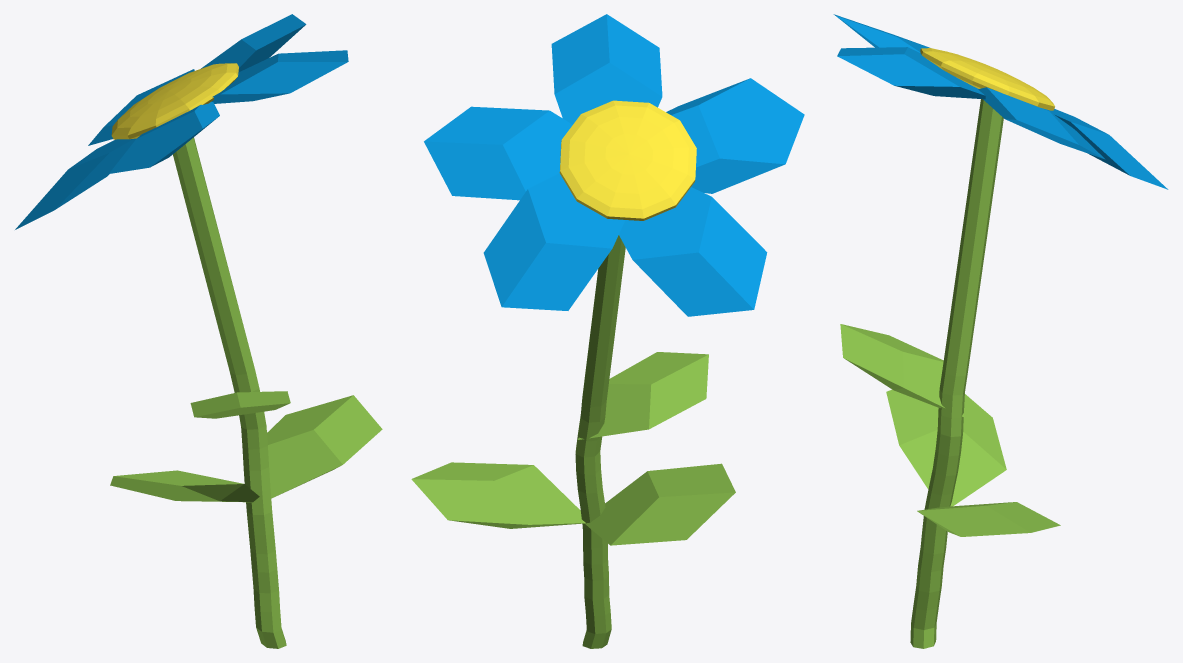
3 views of the same model, side by side, from view 1: azimuth 30°, elevation 25°; view 2: azimuth 150°, elevation 25°; view 3: azimuth 270°, elevation 25° (orthographic). The views are drawn at different scales.
Parts seen in each view (by area): view 1: group_79261407, group_608209523, group_987339474, group_505682177, group_890536338; view 2: group_79261407, group_608209523, group_987339474, group_505682177, group_890536338; view 3: group_608209523, group_79261407, group_505682177, group_890536338, group_987339474.
Boxes of the visible parts, left/top/right/bottom form: group_79261407: left=15, top=14, right=348, bottom=229; group_608209523: left=173, top=137, right=286, bottom=648; group_987339474: left=267, top=395, right=382, bottom=498; group_505682177: left=110, top=470, right=259, bottom=502; group_890536338: left=190, top=391, right=290, bottom=418; group_79261407: left=424, top=14, right=804, bottom=316; group_608209523: left=575, top=235, right=625, bottom=648; group_987339474: left=411, top=462, right=585, bottom=528; group_505682177: left=584, top=463, right=735, bottom=545; group_890536338: left=578, top=352, right=708, bottom=439; group_608209523: left=910, top=99, right=1003, bottom=648; group_79261407: left=833, top=14, right=1168, bottom=189; group_505682177: left=886, top=389, right=1006, bottom=506; group_890536338: left=840, top=324, right=964, bottom=417; group_987339474: left=917, top=502, right=1060, bottom=536.
Size of the model in its own units: 5.48 by 9.2 by 4.64.
